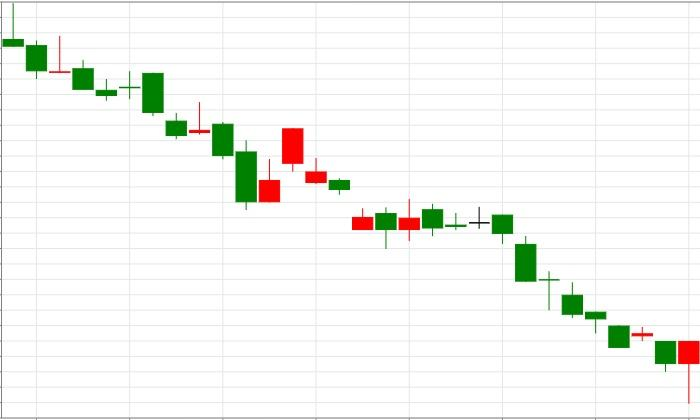hammer_rise: (492, 214, 700, 404)
